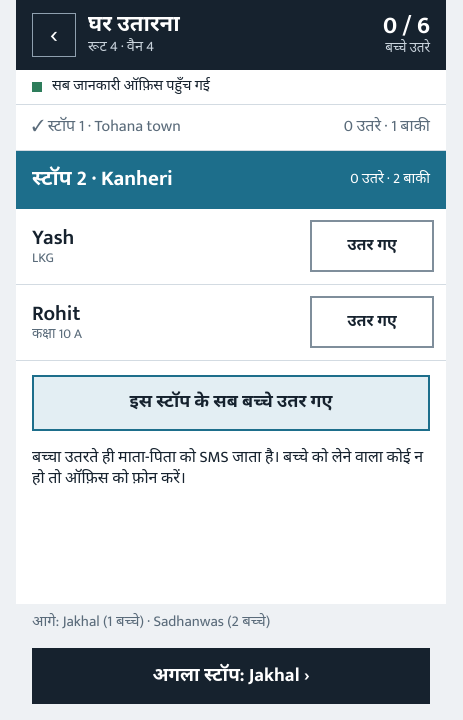
Home drop (/trip/drop) › "all children of this stop got off" taps every child of the stop that is still on the bus
Expected: the heading "स्टॉप 2 · Kanheri" is shown, x1=32 y1=165 x2=173 y2=194
Expected: the text "✓ स्टॉप 1 · Tohana town" is shown, x1=32 y1=116 x2=181 y2=138
Click the button "इस स्टॉप के सब बच्चे उतर गए" at [231, 402], box x1=32 y1=374 x2=430 y2=430
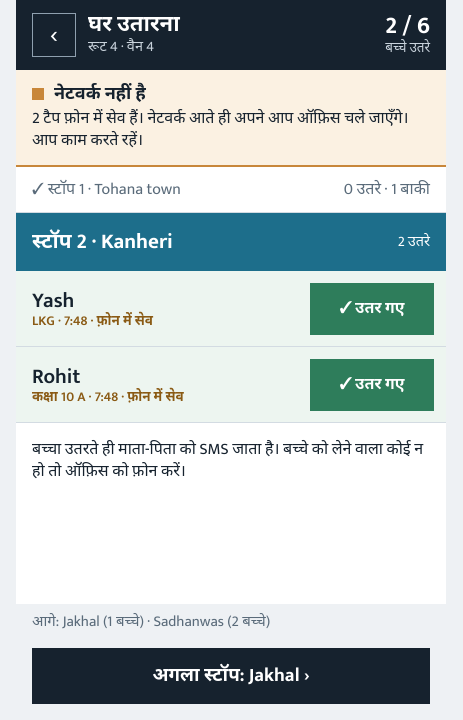
Expected: the text "2 उतरे" is shown, x1=398 y1=233 x2=430 y2=252
Expected: the button "इस स्टॉप के सब बच्चे उतर गए" is gone
